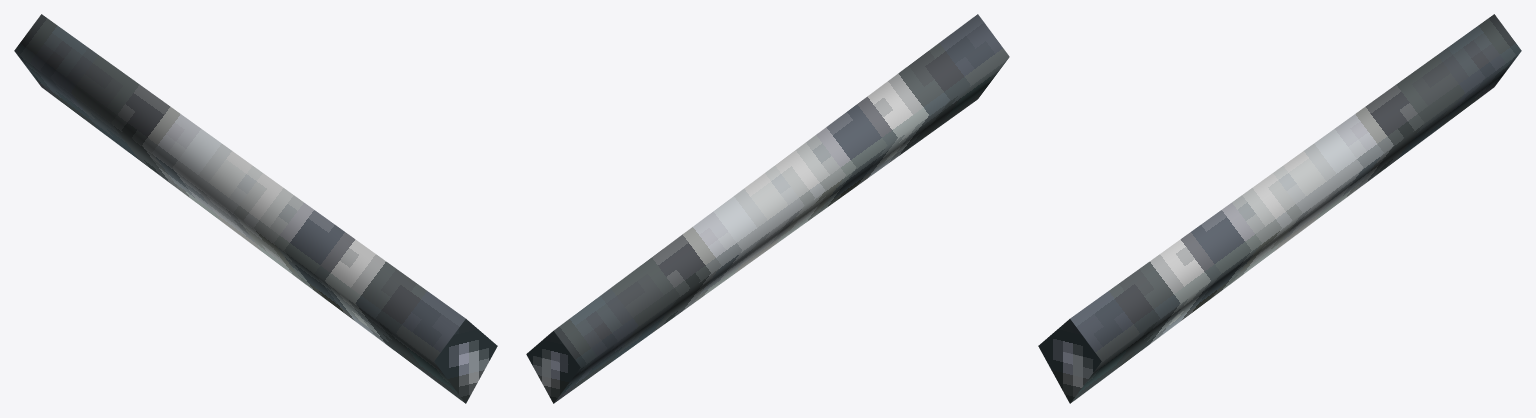
Rendered from wp_scope_renegade_l2.fbx.
3 views of the same model, side by side, from view 1: azimuth 30°, elevation 25°; view 2: azimuth 150°, elevation 25°; view 3: azimuth 330°, elevation 25° (orthographic).
Parts seen in each view (by area): view 1: mesh_node; view 2: mesh_node; view 3: mesh_node.
Part boxes in pixels (box(x1,y1,x2,y2)): mesh_node: box(14, 14, 497, 403); mesh_node: box(526, 14, 1009, 403); mesh_node: box(1038, 14, 1521, 403).
Bounding box in the file's own units: 0.02 × 0.0256 × 0.231.
1 material, 1 textured.
